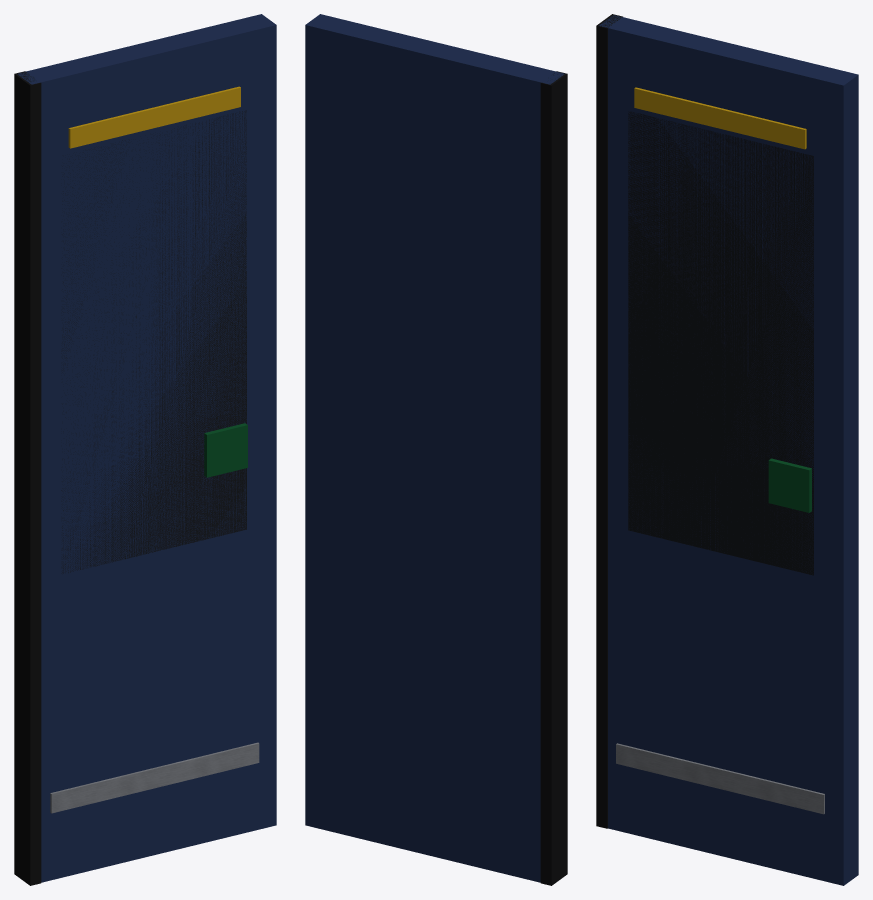
The model's file is train_door.obj.
3 renders of one model, left to right at view 1: azimuth 30°, elevation 25°; view 2: azimuth 150°, elevation 25°; view 3: azimuth 330°, elevation 25°, orthographic.
Parts seen in each view (by area): view 1: train_door; view 2: train_door; view 3: train_door.
Part boxes in pixels (left/top/right/bottom): train_door: left=14, top=14, right=276, bottom=885; train_door: left=305, top=14, right=567, bottom=885; train_door: left=596, top=14, right=858, bottom=885.
Size of the model in its own units: 0.665 by 2.06 by 0.085.
